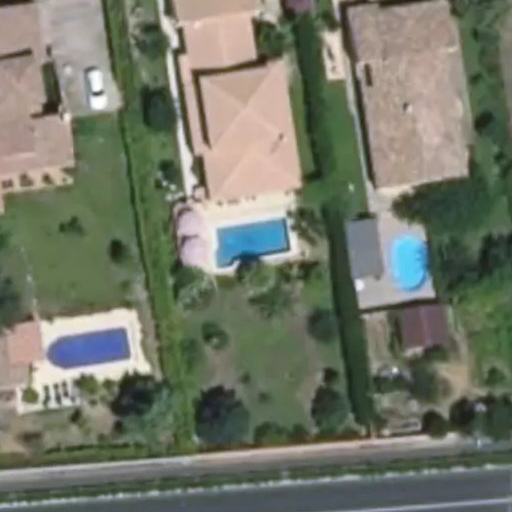pool: (213, 213, 297, 268), (45, 327, 136, 367), (391, 231, 429, 295)
